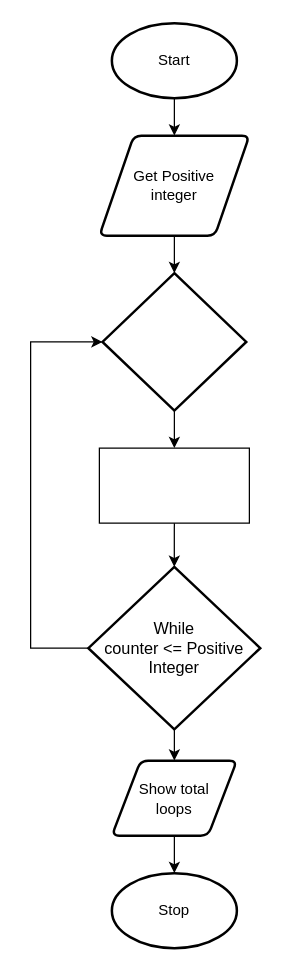
This 284x970 diagram has some shape labels left out. Here are the shapes that lost their labels. From the top down, the box of each, then its label:
(101, 271, 247, 411): Do
(98, 447, 249, 523): counter = counter + 1
